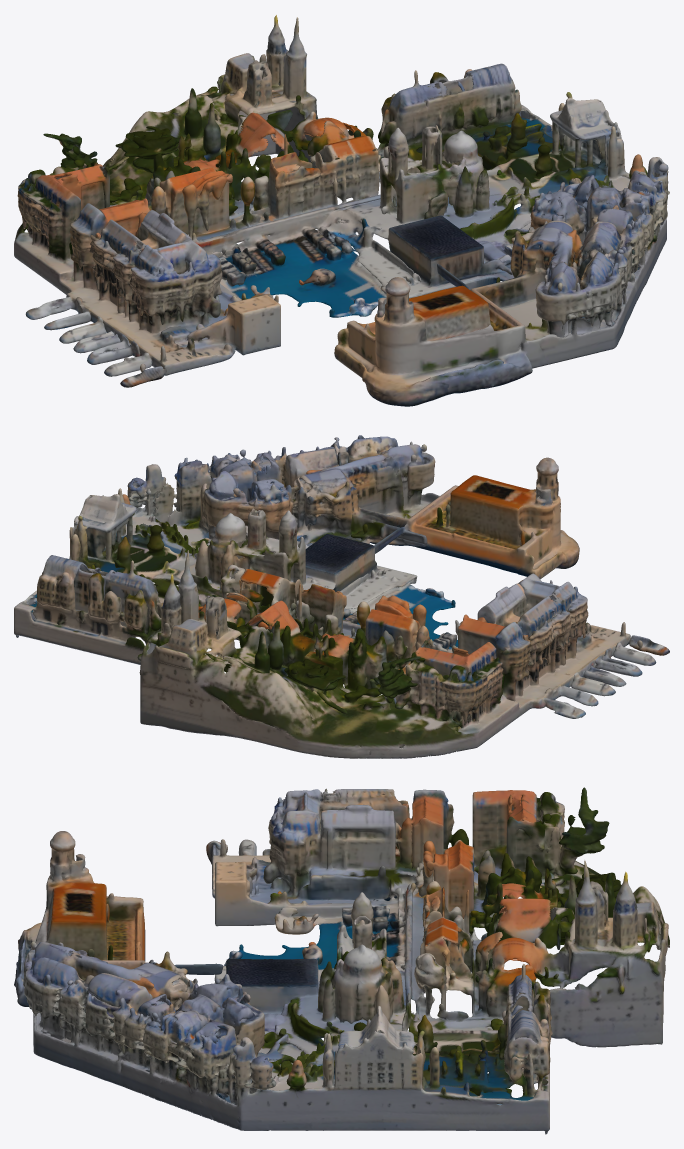
Rendered from Marseille_France.glb.
3 views of the same model, one above another, from view 1: azimuth 30°, elevation 25°; view 2: azimuth 150°, elevation 25°; view 3: azimuth 270°, elevation 25° (orthographic). The views are drawn at different scales.
Parts seen in each view (by area): view 1: tripo_node_8ae868f7-1714-4ffb-97fa-266981c0fd28; view 2: tripo_node_8ae868f7-1714-4ffb-97fa-266981c0fd28; view 3: tripo_node_8ae868f7-1714-4ffb-97fa-266981c0fd28.
Part boxes in pixels (box(x1,y1,x2,y2)): tripo_node_8ae868f7-1714-4ffb-97fa-266981c0fd28: box(14, 15, 669, 406); tripo_node_8ae868f7-1714-4ffb-97fa-266981c0fd28: box(14, 435, 669, 758); tripo_node_8ae868f7-1714-4ffb-97fa-266981c0fd28: box(14, 787, 669, 1134).
Bounding box in the file's own units: 1 × 0.2805 × 0.9426.
1 material, 1 textured.
